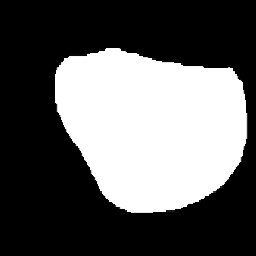mass: (58, 42, 245, 214)
